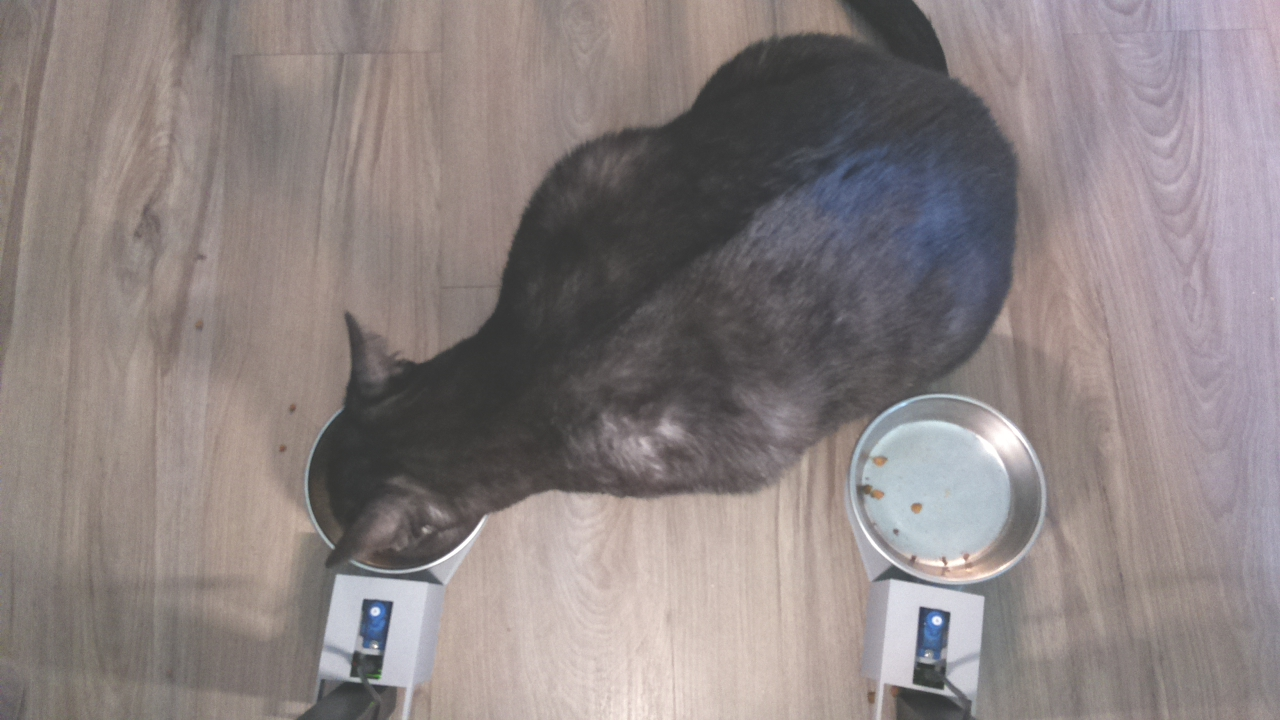open_bowl: (845, 389, 1059, 589)
saki_eating: (291, 301, 541, 589)
